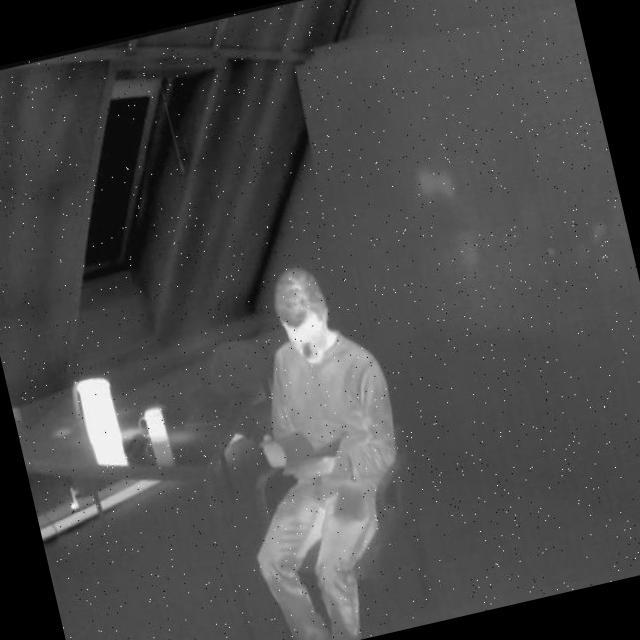person: (185, 251, 443, 640)
